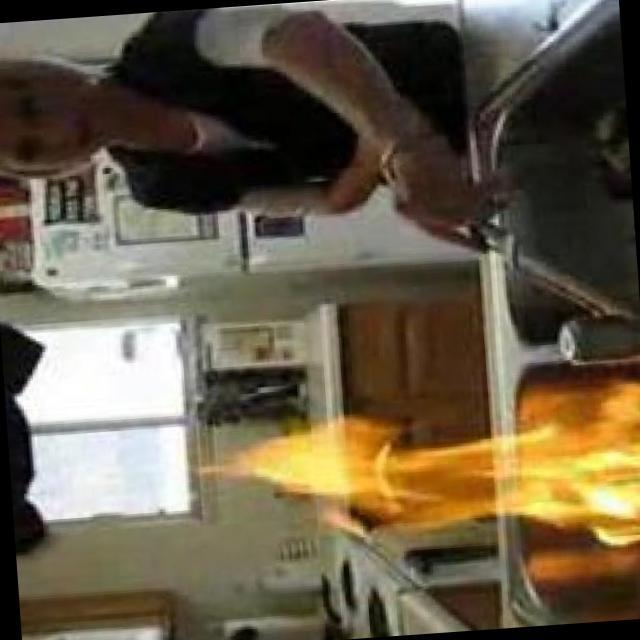Fire: (232, 384, 640, 565)
